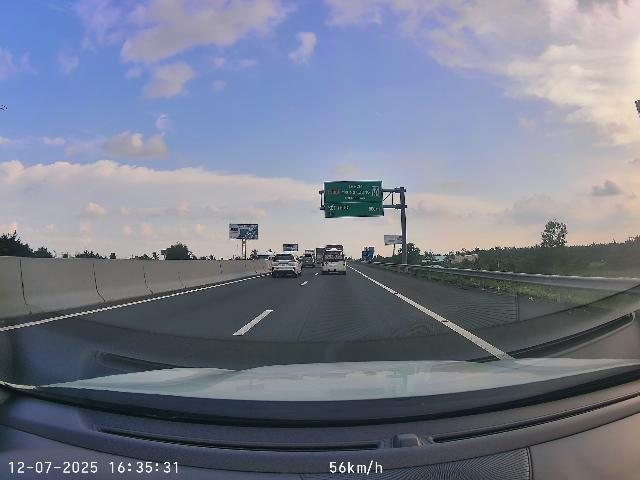438-ket-thuc-duong-cao-toc: (371, 186, 380, 198)
